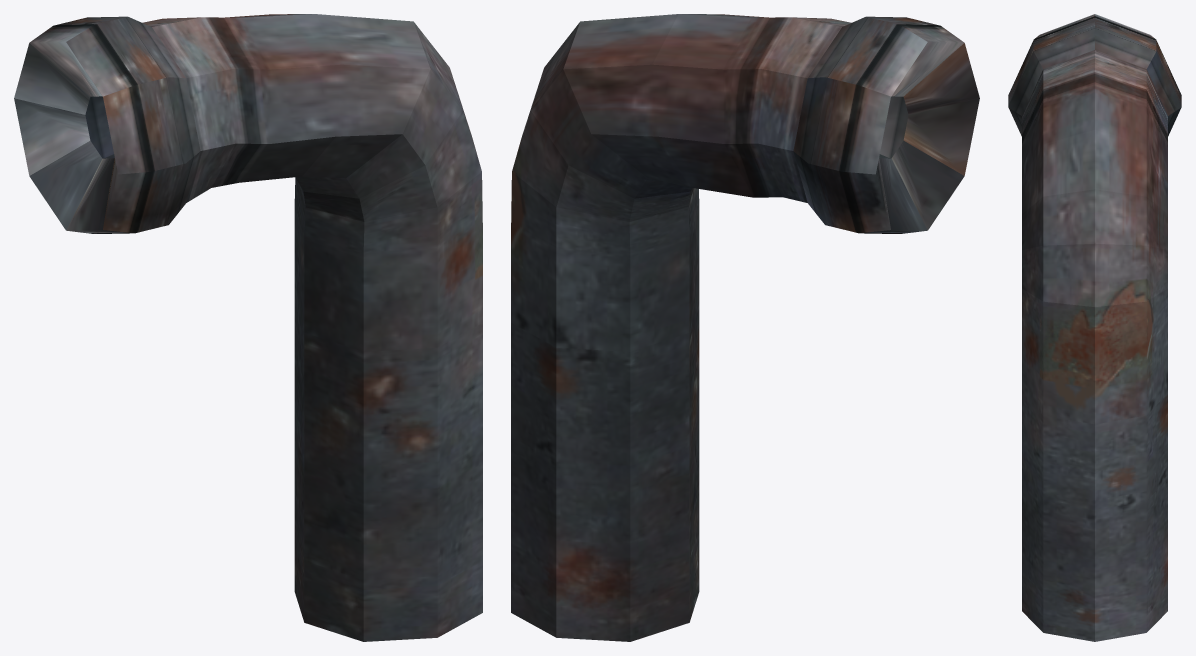
Rendered from desert_pollution_L_pipe01.FBX.
3 renders of one model, left to right at view 1: azimuth 30°, elevation 25°; view 2: azimuth 150°, elevation 25°; view 3: azimuth 270°, elevation 25°, orthographic. The views are drawn at different scales.
Visible parts, largest first — view 1: Cylinder040; view 2: Cylinder040; view 3: Cylinder040.
Boxes of the visible parts, bbox=[...] form: Cylinder040: bbox=[14, 14, 482, 641]; Cylinder040: bbox=[511, 14, 979, 641]; Cylinder040: bbox=[1008, 14, 1181, 641].
Size of the model in its own units: 19.89 by 30.31 by 9.77.
